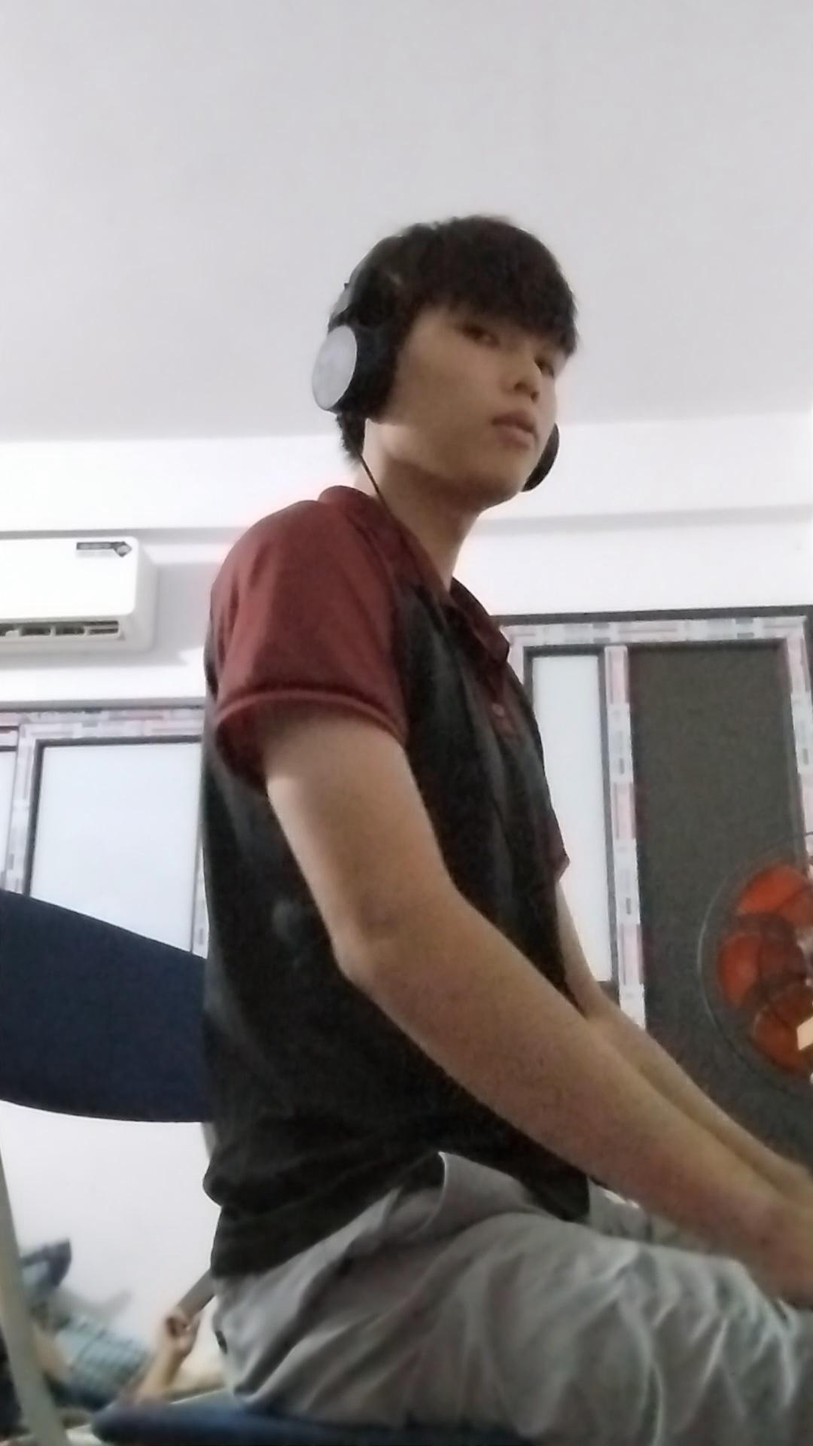GoodPosture: (202, 216, 812, 1445)
